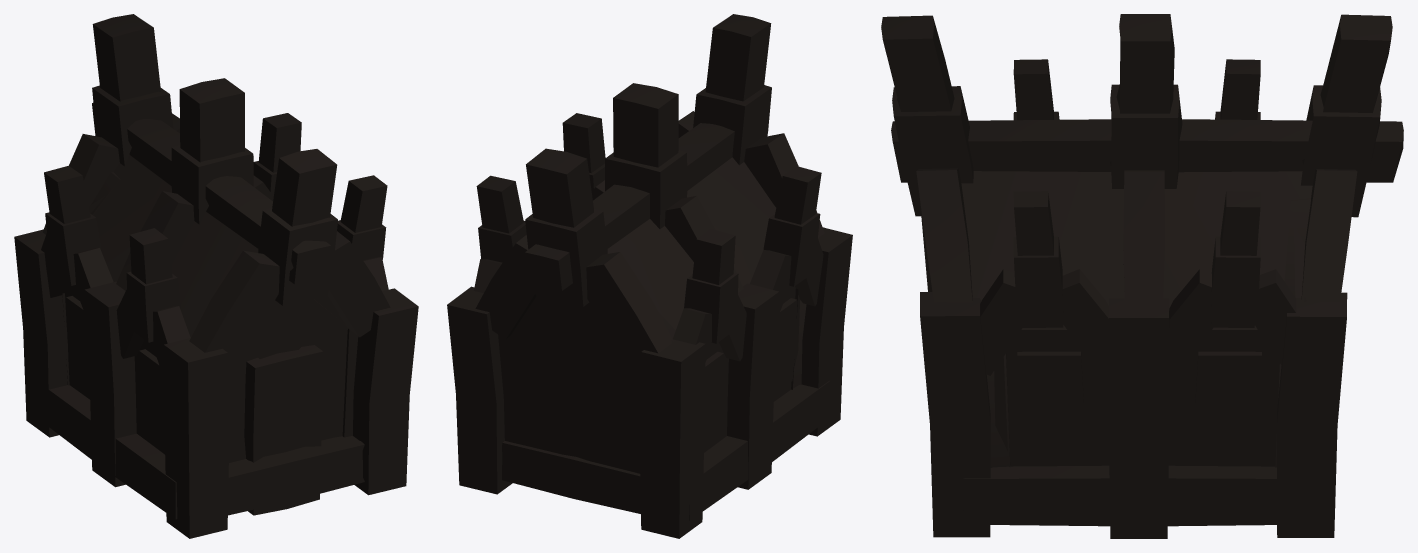
Rendered from tile_house_outline.fbx.
The picture shows the model from 3 angles, left to right: view 1: azimuth 30°, elevation 25°; view 2: azimuth 150°, elevation 25°; view 3: azimuth 270°, elevation 25°; orthographic projection. The views are drawn at different scales.
Parts seen in each view (by area): view 1: Cylinder002; view 2: Cylinder002; view 3: Cylinder002.
Boxes of the visible parts, <box> form: Cylinder002: <box>14,14,418,538</box>; Cylinder002: <box>447,14,852,538</box>; Cylinder002: <box>881,14,1403,538</box>.
Bounding box in the file's own units: 2.36 × 3.54 × 3.41.
Materials: 1 (1 with a texture image).
